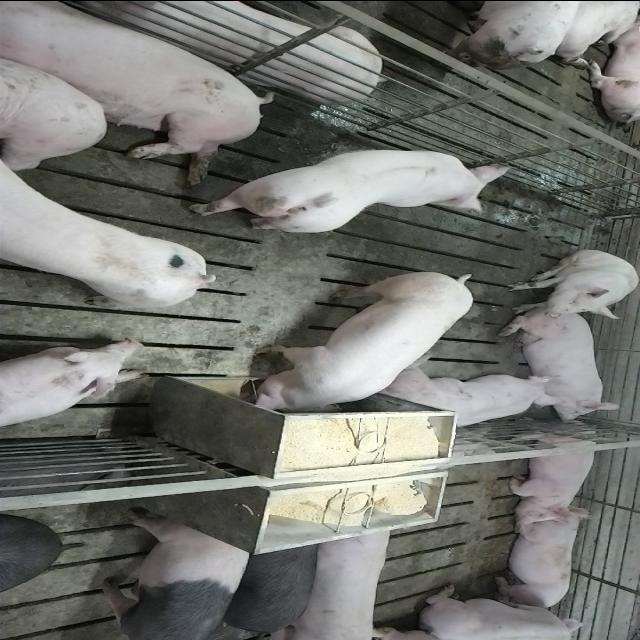Feeding: (243, 273, 476, 422)
Lateral_lying: (1, 2, 272, 184), (20, 0, 384, 103)
Sitting: (503, 249, 638, 319)
Standing: (0, 135, 216, 317), (180, 144, 516, 232), (93, 512, 255, 638), (274, 518, 398, 638), (220, 535, 322, 637)
Sternal_lying: (0, 335, 148, 433), (507, 314, 618, 424), (381, 364, 563, 430), (412, 584, 596, 638), (492, 509, 588, 610), (507, 426, 602, 518)
